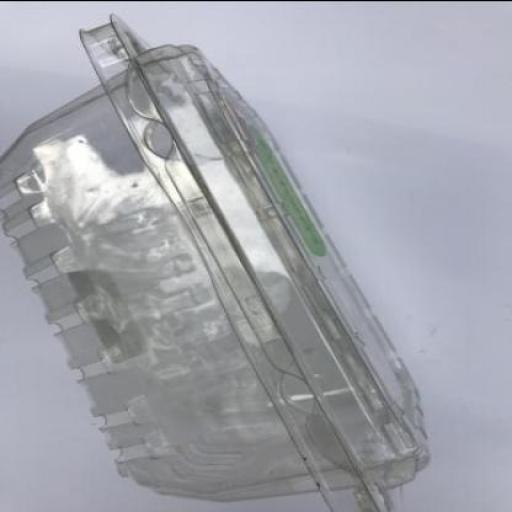plastic: (1, 11, 430, 511)
